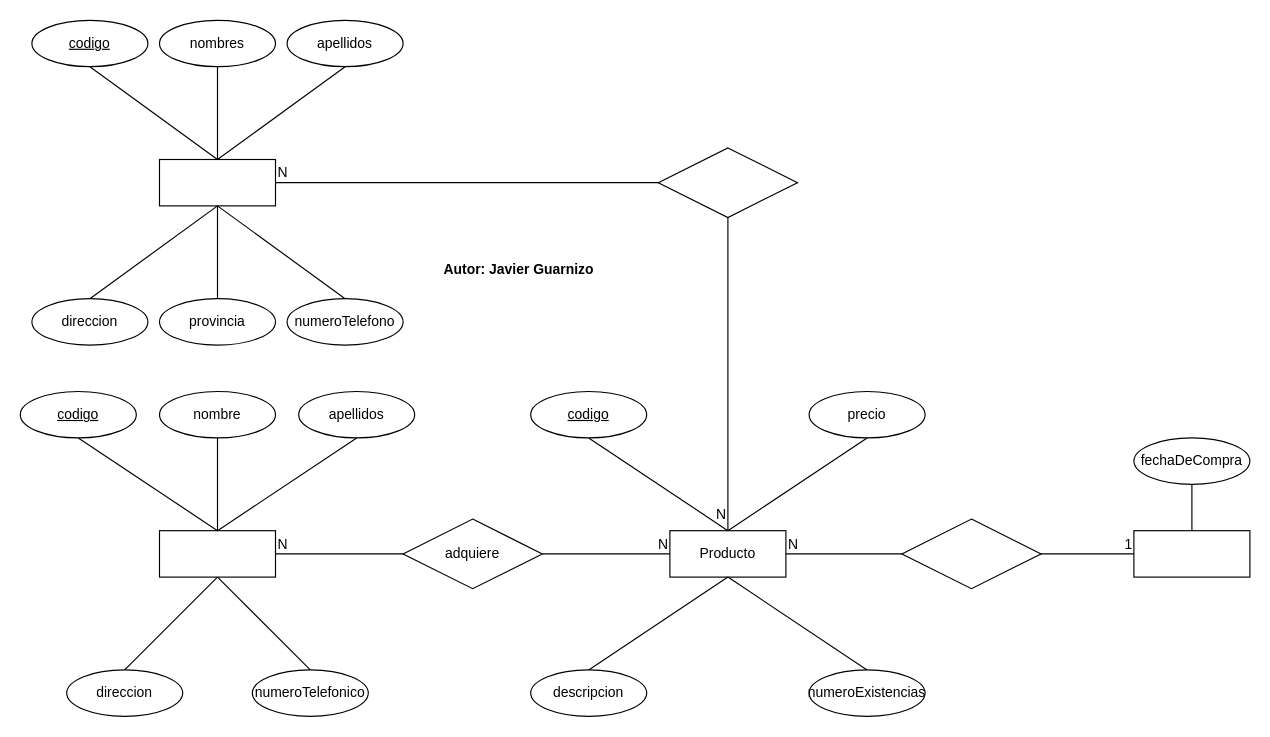
Image size: 1270x737. Some labels were removed from this diagram. The box of each missing label's shape, as (x1, y1, x2, y2) in pixels:
Cliente: (158, 530, 276, 577)
Factura: (1133, 530, 1250, 577)
Provedor: (158, 158, 276, 206)
queda registrado: (901, 518, 1041, 589)
suministra: (657, 147, 798, 217)
